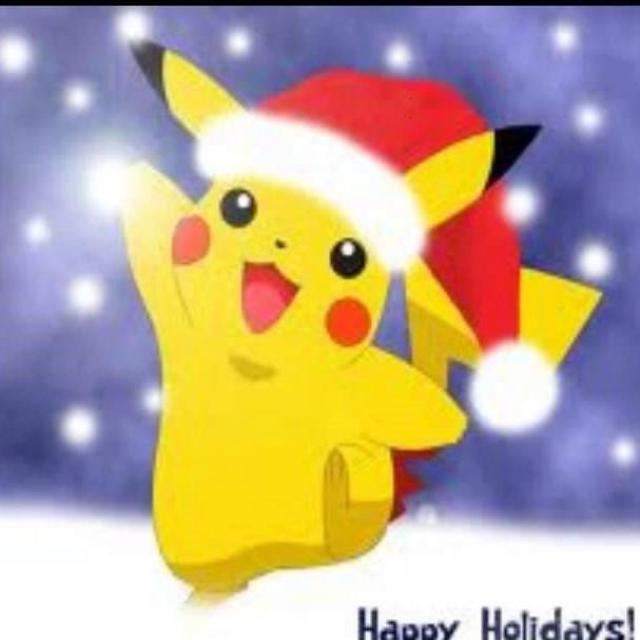pikachu: (92, 32, 616, 616)
